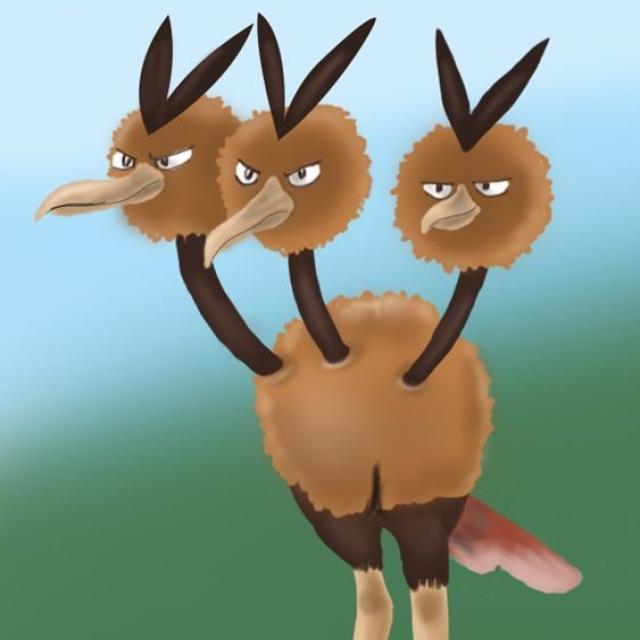Dodrio: (67, 21, 568, 638)
